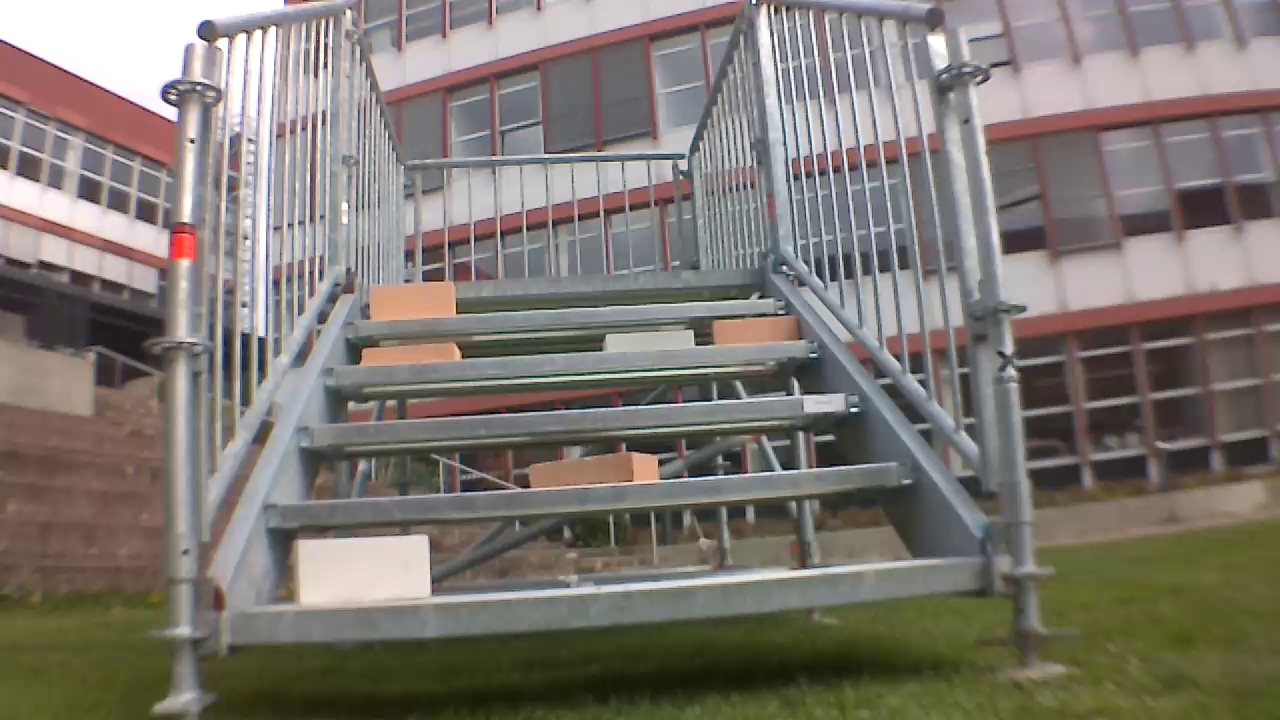brick: (303, 528, 431, 600), (527, 453, 655, 483), (372, 282, 456, 319), (360, 339, 461, 367), (712, 314, 800, 345), (603, 326, 697, 349)
edge: (235, 561, 987, 653), (256, 464, 918, 528), (297, 394, 859, 447), (321, 339, 824, 389), (337, 297, 785, 338), (368, 268, 763, 299)
stairs: (153, 0, 1060, 688)
steps: (220, 266, 982, 653)
